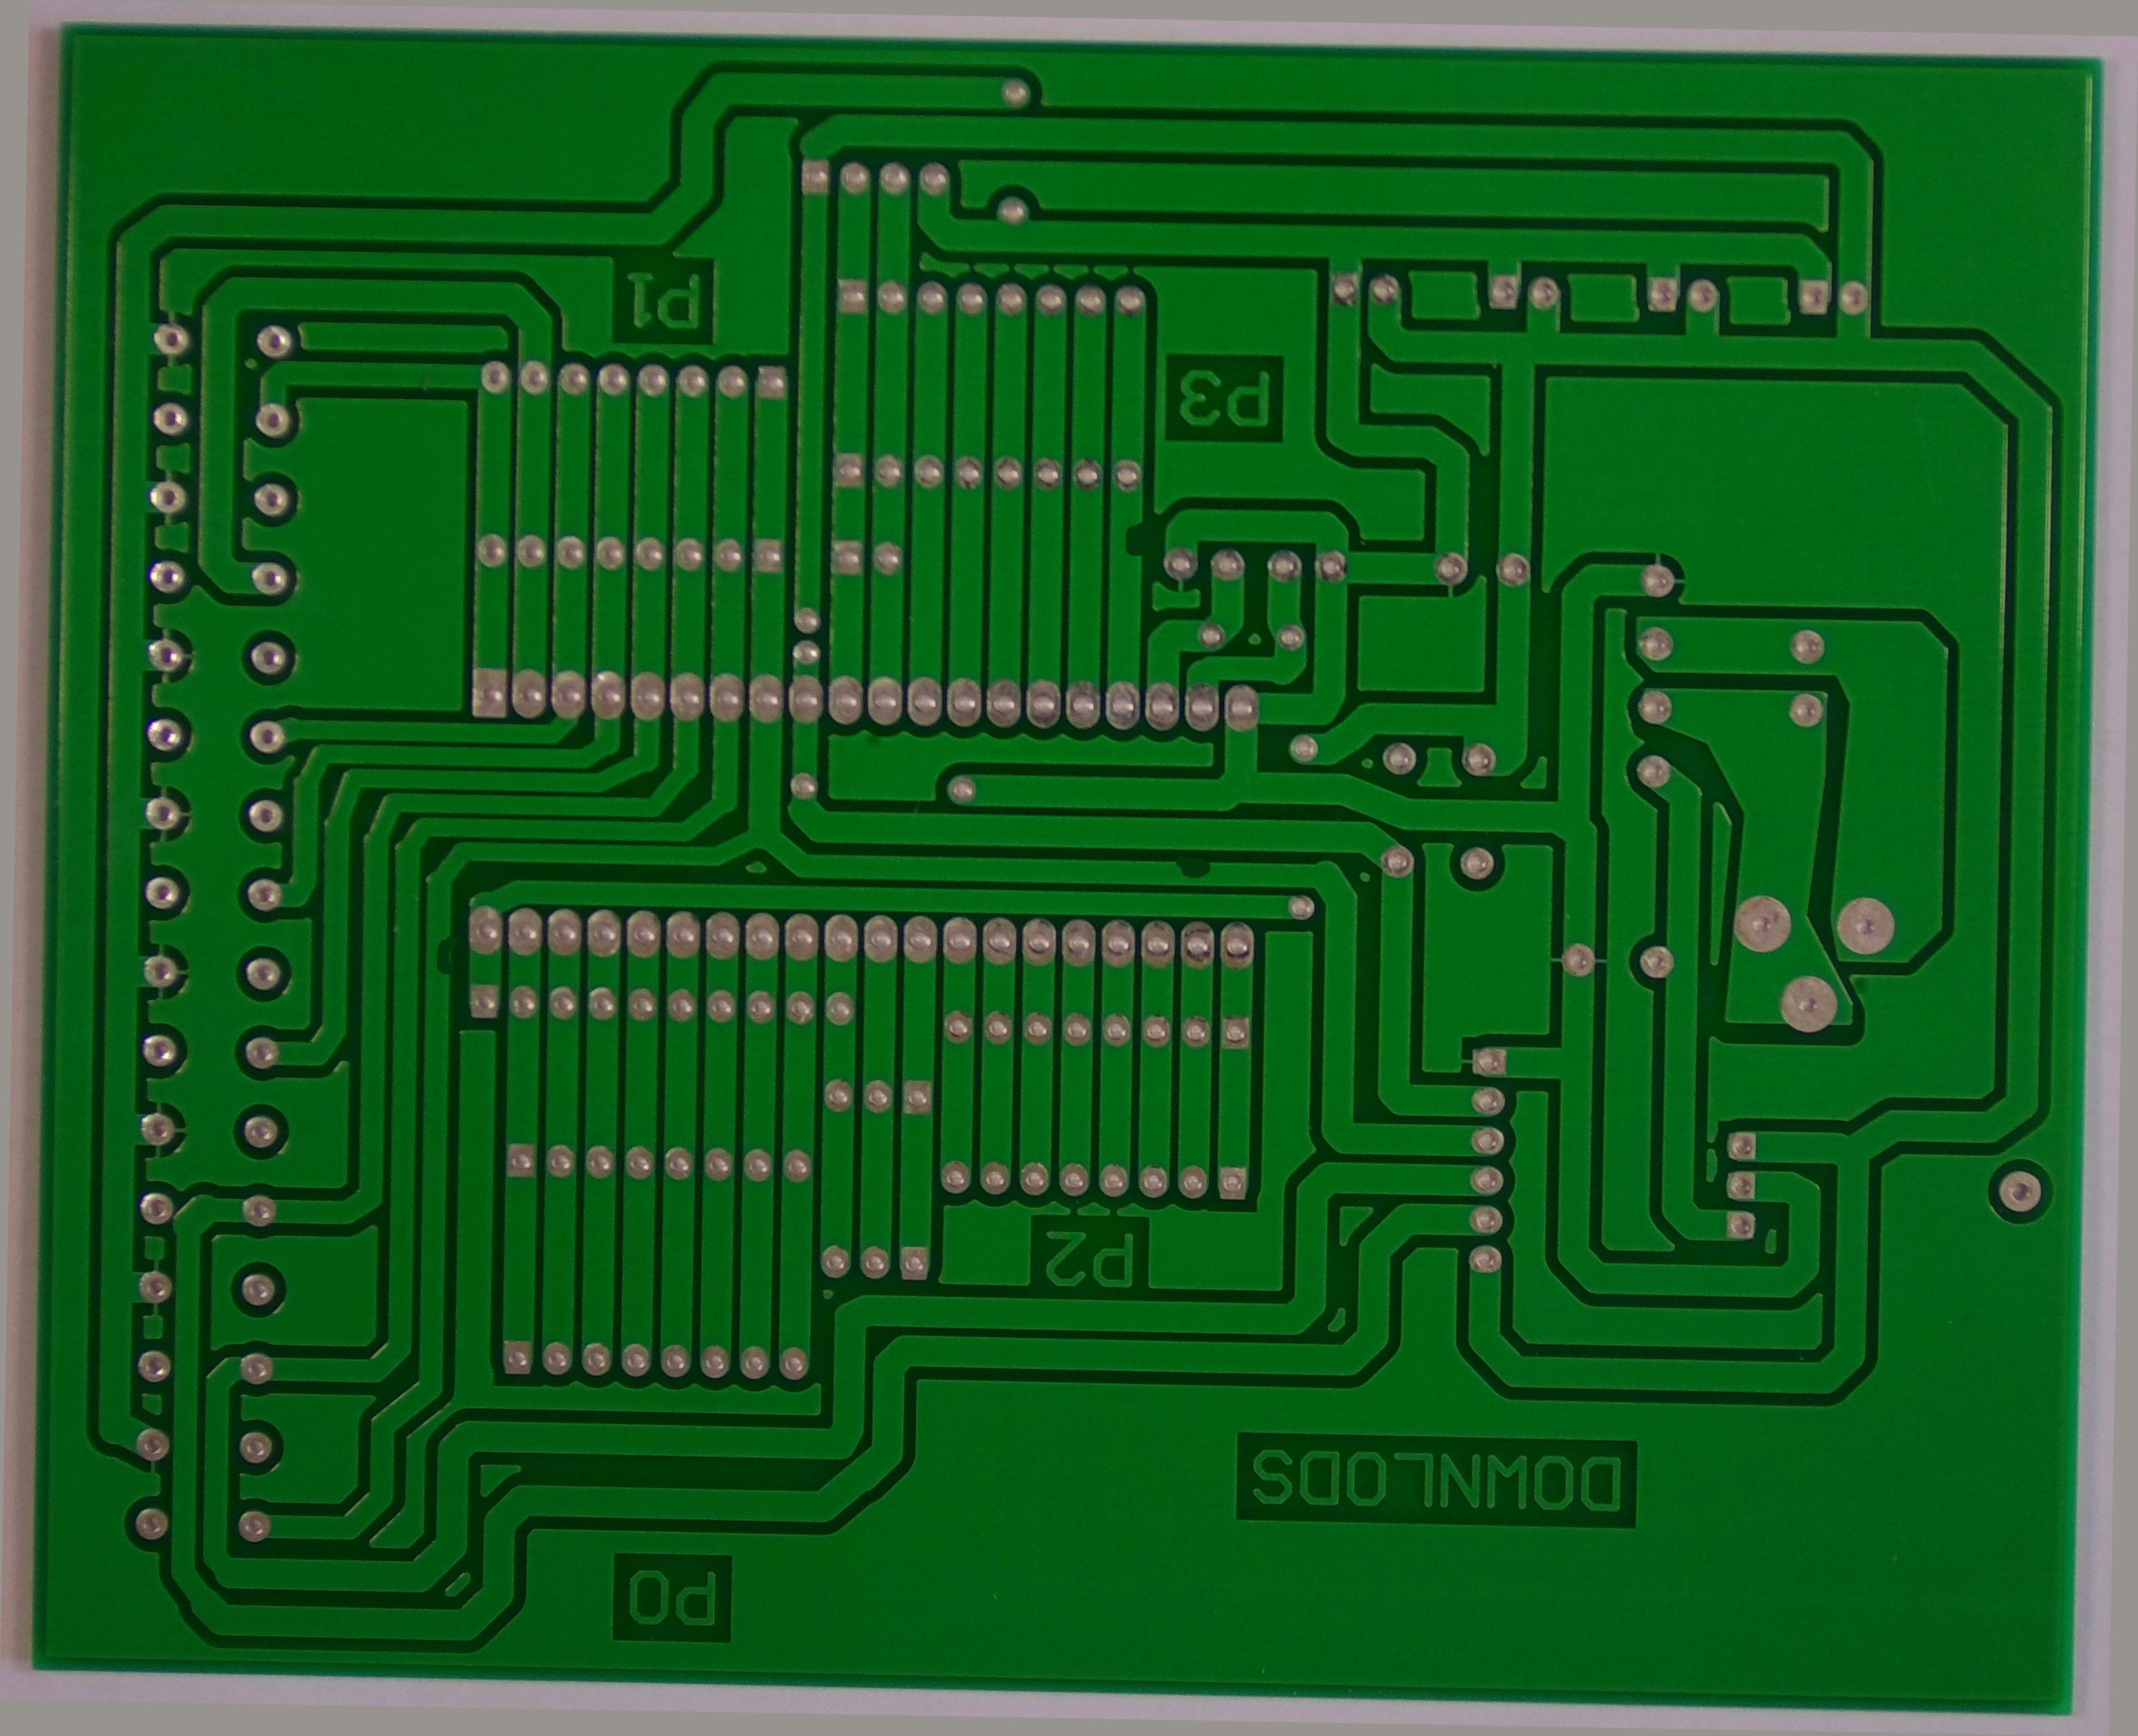mouse_bite: (1098, 503, 1151, 560), (1166, 847, 1224, 886), (414, 941, 455, 996)
